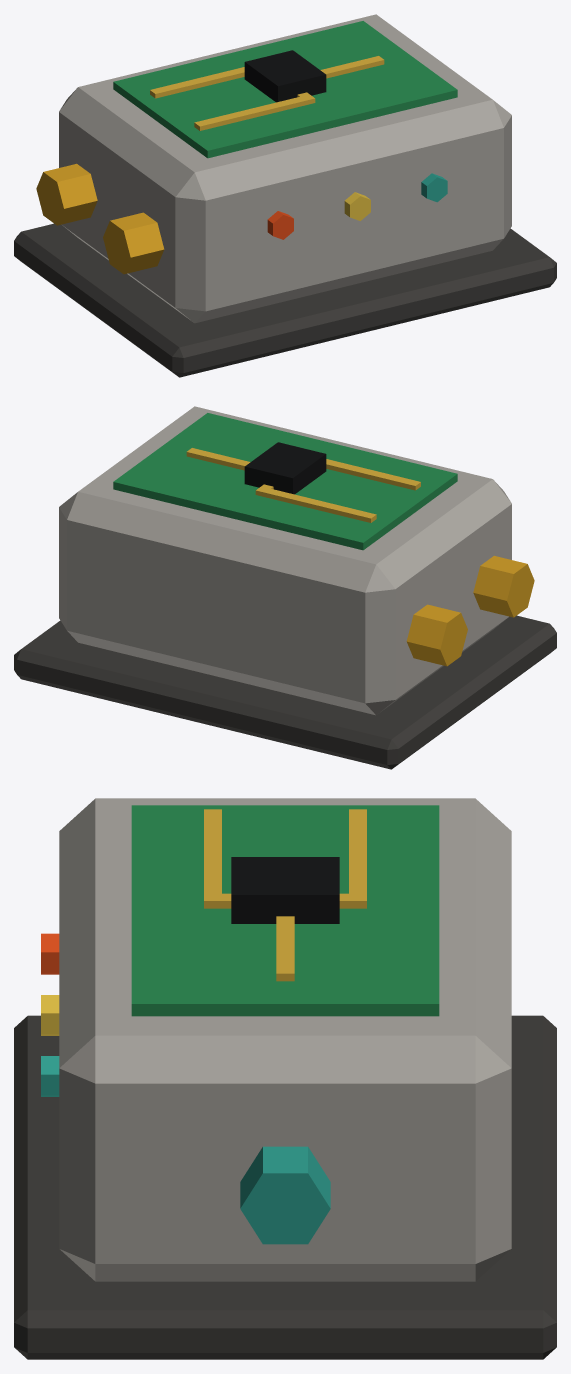
File: logic.fbx
3 views of the same model, one above another, from view 1: azimuth 30°, elevation 25°; view 2: azimuth 150°, elevation 25°; view 3: azimuth 270°, elevation 25° (orthographic). The views are drawn at different scales.
Parts seen in each view (by area): view 1: logic; view 2: logic; view 3: logic.
Part boxes in pixels (bbox=[...]): logic: bbox=[14, 14, 556, 377]; logic: bbox=[14, 406, 556, 769]; logic: bbox=[14, 798, 556, 1359].
Bounding box in the file's own units: 2.52 × 1.23 × 1.8.
